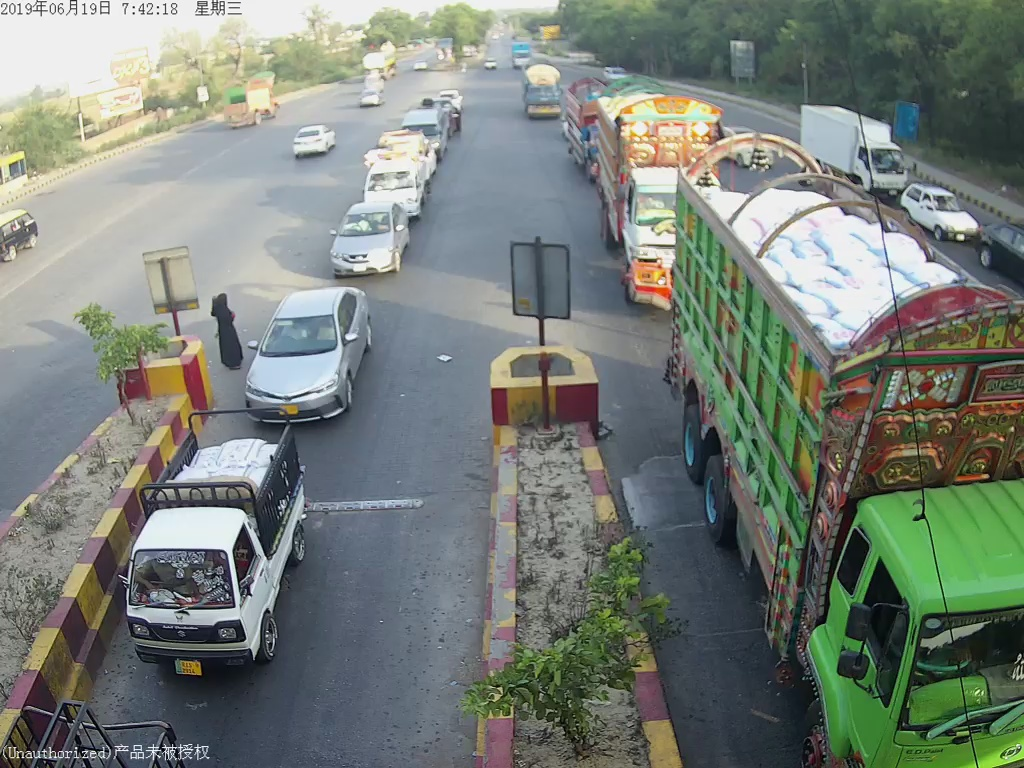Cat-1: (122, 412, 312, 678), (239, 285, 377, 403), (326, 205, 412, 280)
Cat-4: (692, 173, 1024, 767)
